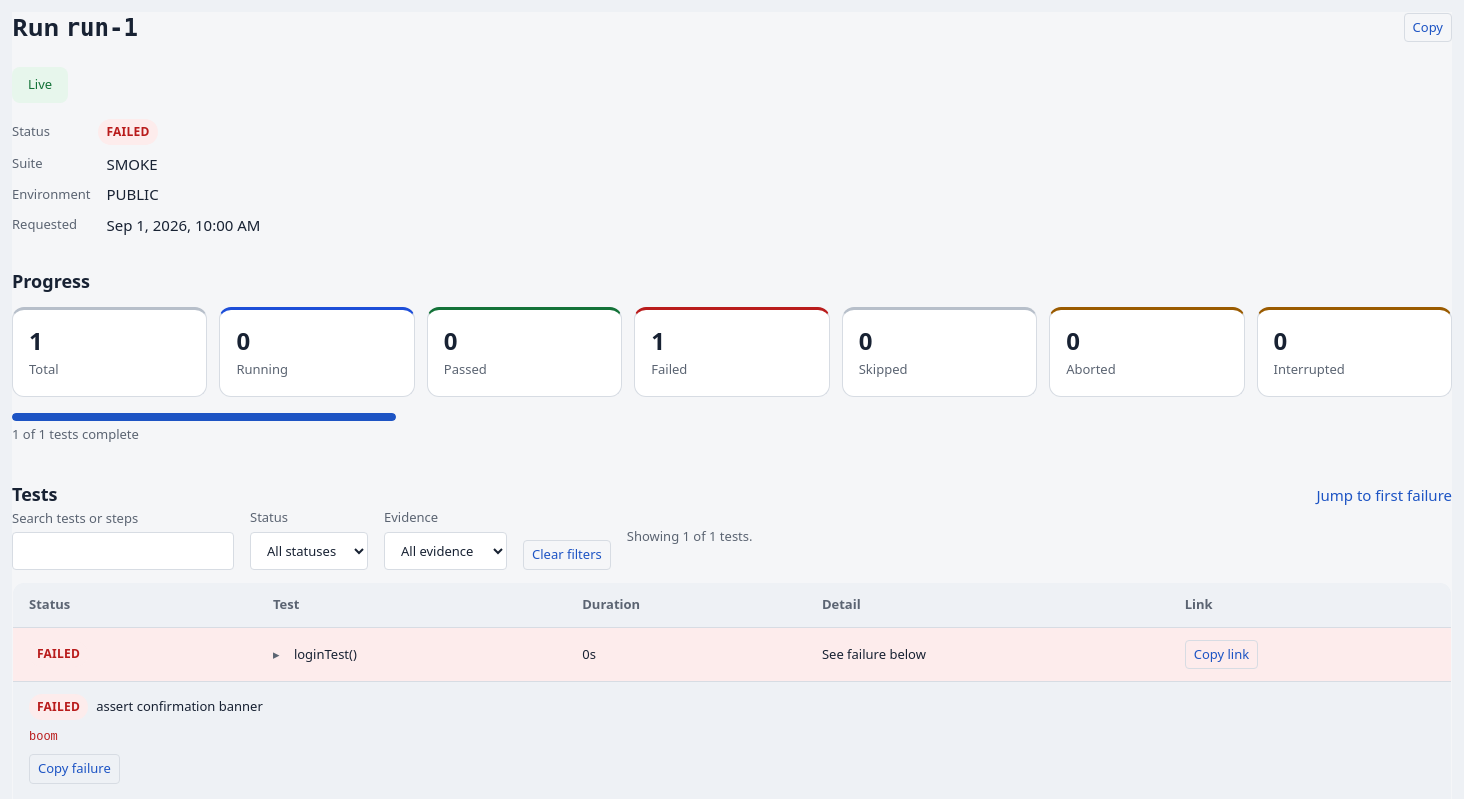
RunDetailsPage › shows the failed step in a collapsed row's failure preview without auto-expanding, and stops showing it once the row is expanded
Expected: the 1st text "FAILED" is shown, [98, 118, 158, 144]
Step 1. Click the button "▸ loginTest()" → (315, 654), box [273, 644, 357, 664]
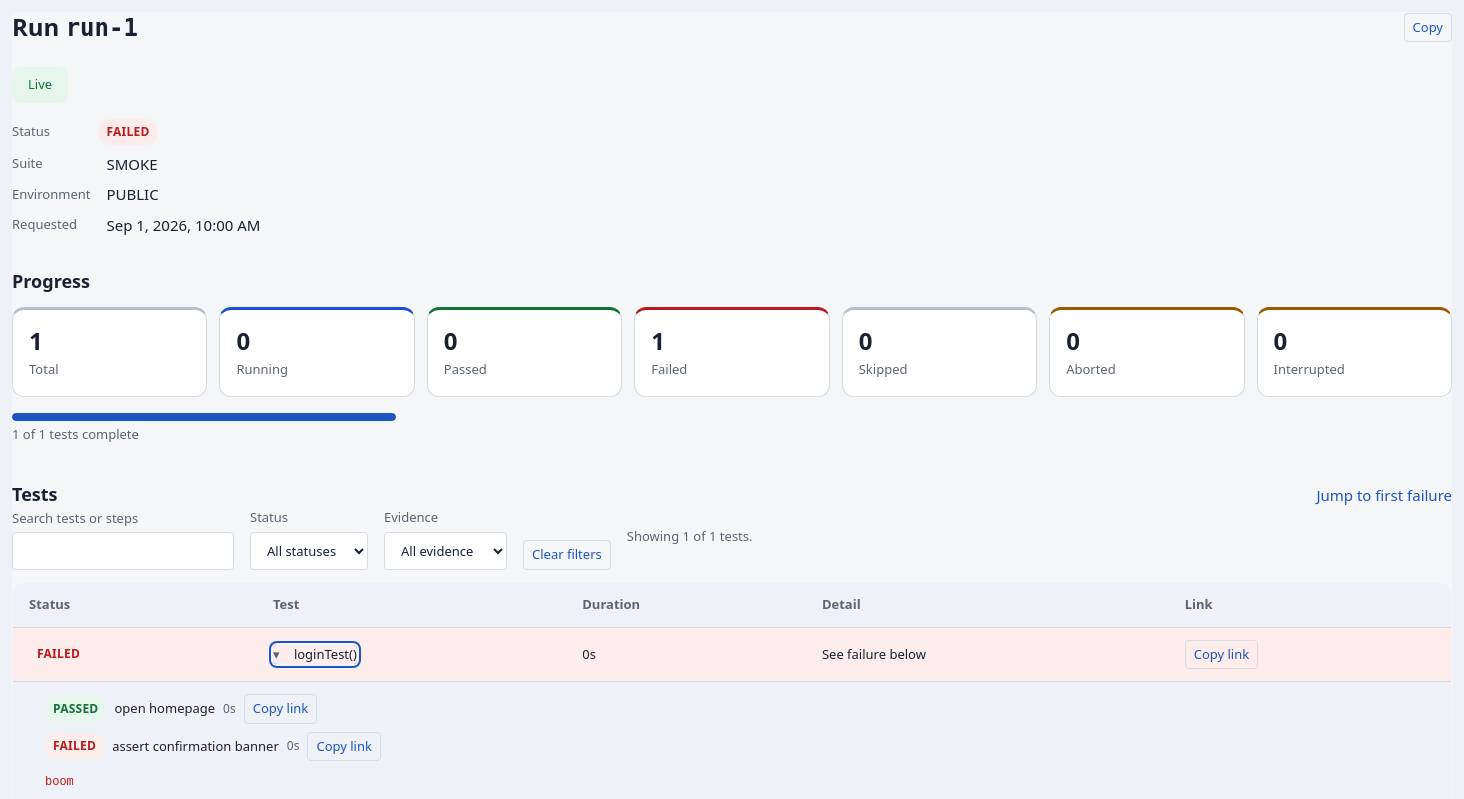
Now the text "open homepage" is shown, box [114, 698, 215, 718]
Now the text "assert confirmation banner" is shown once, box [112, 736, 279, 756]
